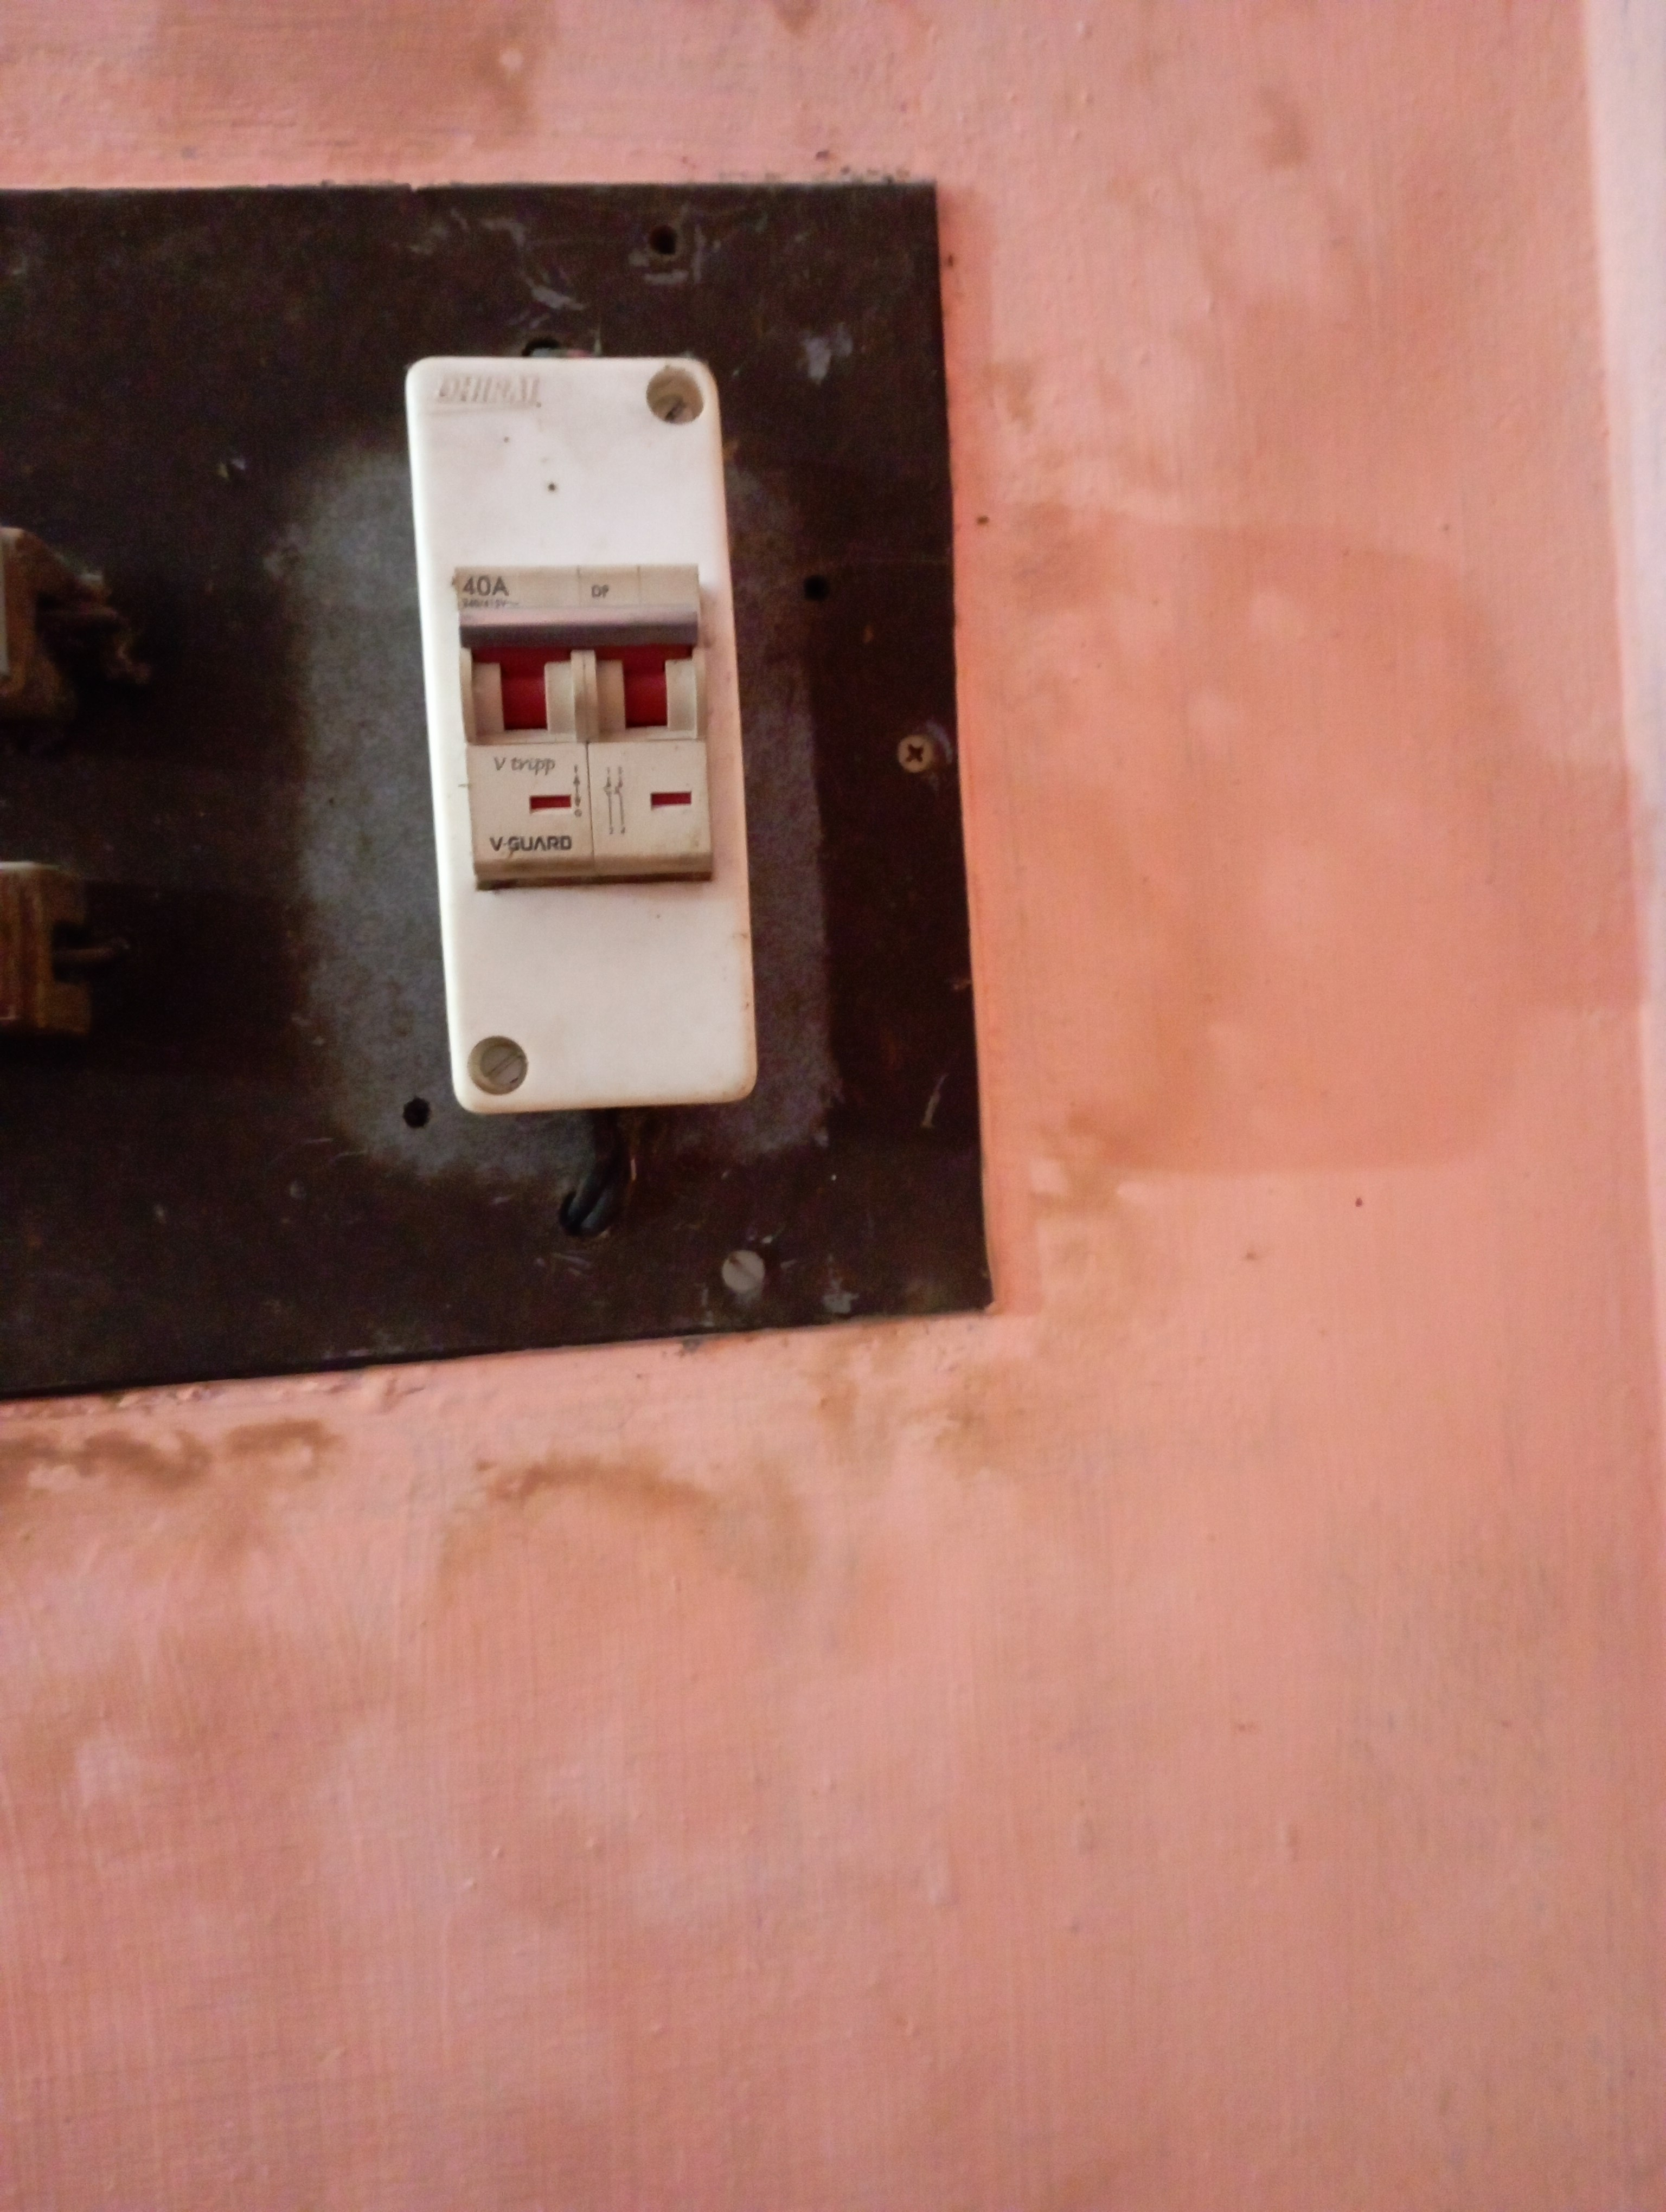ciruit_breaker: (392, 339, 801, 1114)
fuse: (0, 838, 157, 1075), (0, 519, 133, 722)
